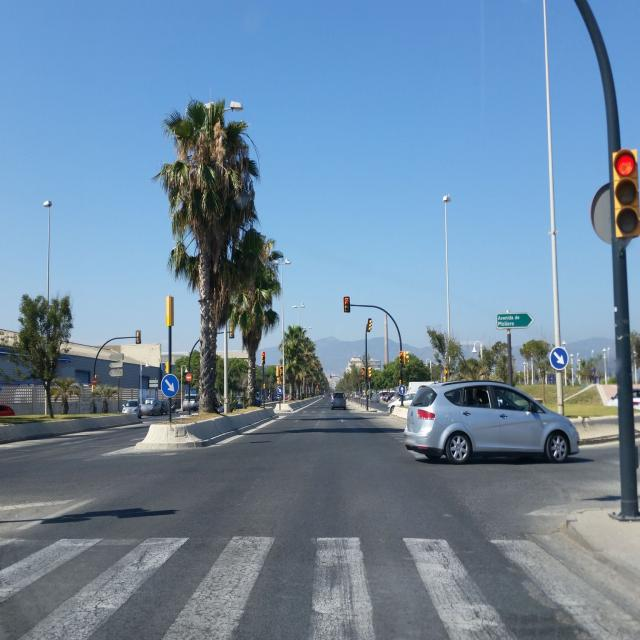car: (404, 378, 583, 465), (388, 392, 416, 412), (138, 398, 164, 417), (121, 399, 141, 417), (331, 391, 347, 411)
